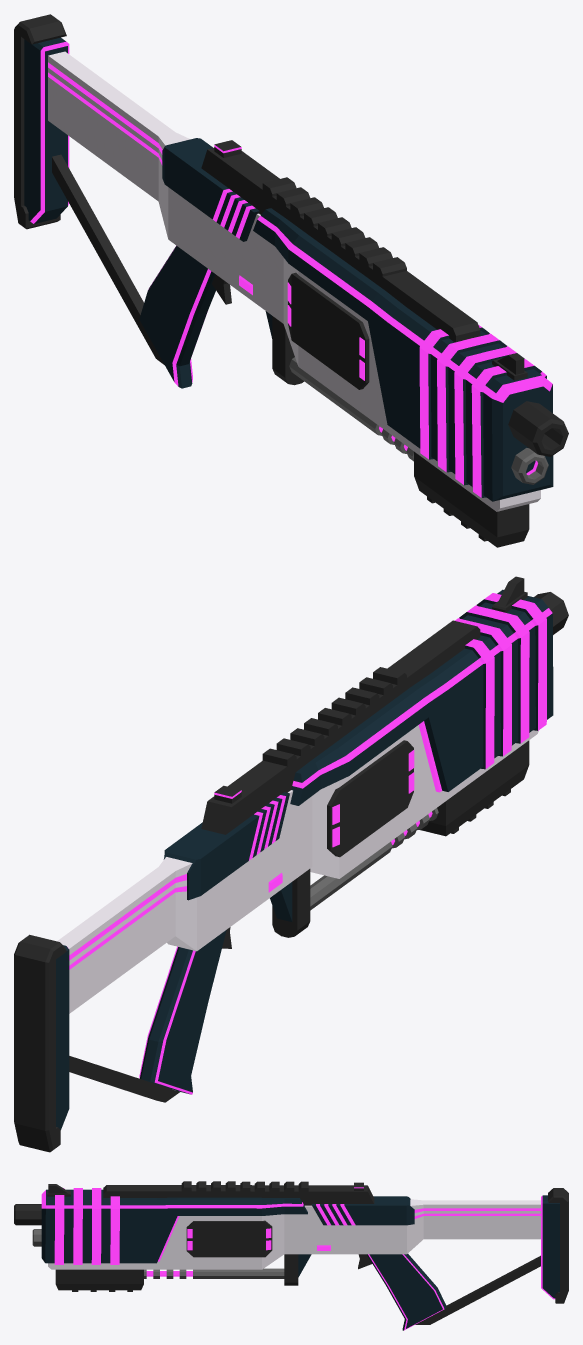
The model's file is The Mainline.glb.
3 views of the same model, one above another, from view 1: azimuth 30°, elevation 25°; view 2: azimuth 150°, elevation 25°; view 3: azimuth 270°, elevation 25° (orthographic). The views are drawn at different scales.
Parts seen in each view (by area): view 1: Cube.001; view 2: Cube.001; view 3: Cube.001.
Boxes of the visible parts, x1=… form: Cube.001: x1=14, y1=14, x2=568, y2=547; Cube.001: x1=14, y1=576, x2=568, y2=1152; Cube.001: x1=14, y1=1181, x2=568, y2=1330.
Size of the model in its own units: 0.0289 by 0.1131 by 0.3924.
